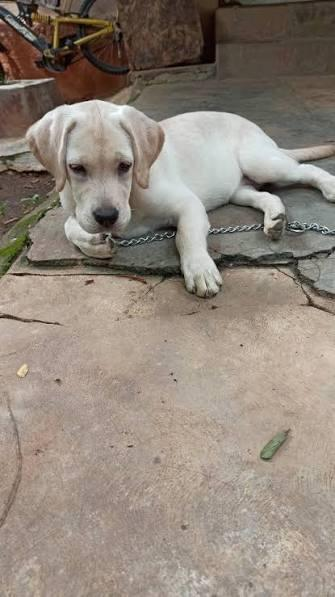puppy-dog: (27, 98, 335, 298)
